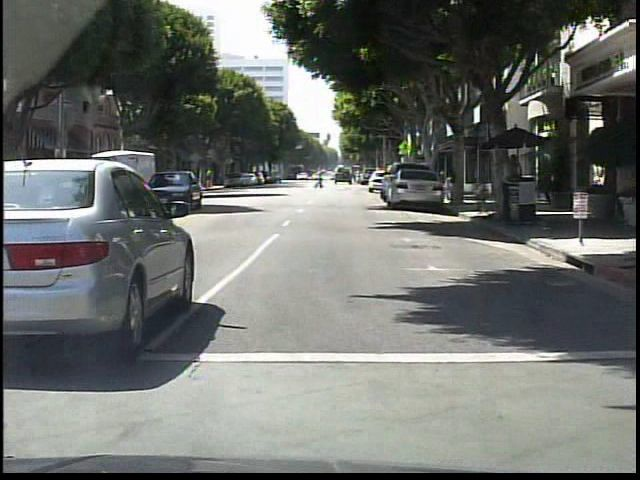person: (503, 153, 526, 226), (314, 169, 325, 189)
